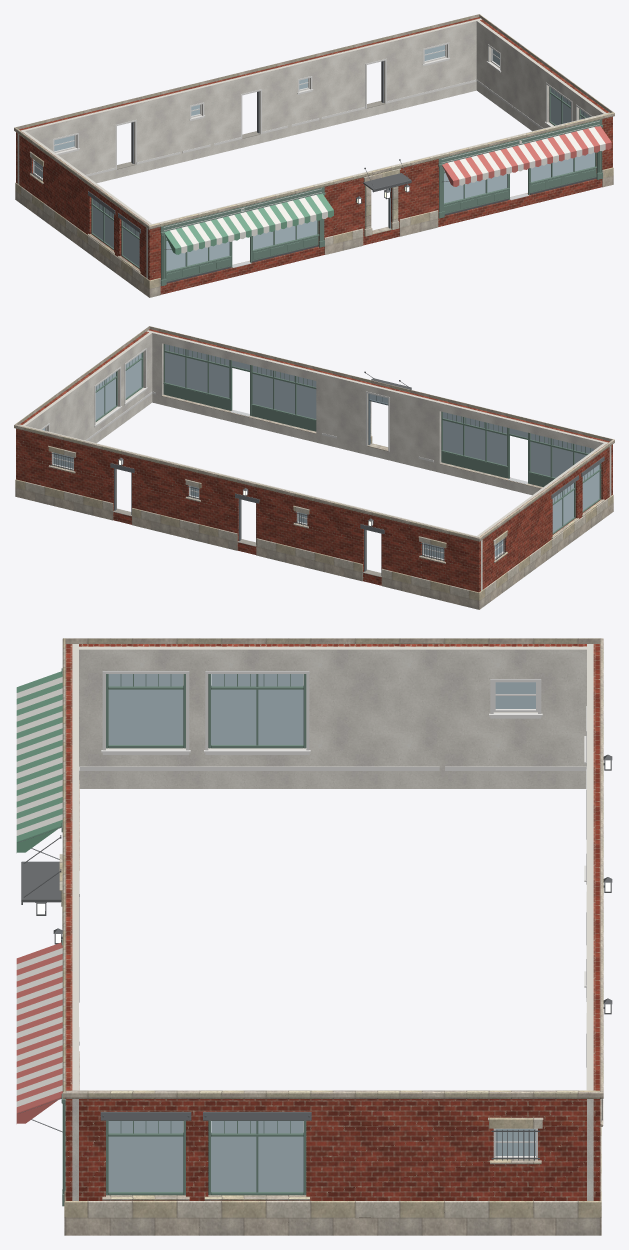
Rendered from shell_g.glb.
3 renders of one model, top to bottom at view 1: azimuth 30°, elevation 25°; view 2: azimuth 150°, elevation 25°; view 3: azimuth 270°, elevation 25°, orthographic. The views are drawn at different scales.
Visible parts, largest first — view 1: shell_g_plaster, shell_g_brick, shell_g_stone_c, shell_g_shop_f, shell_g_glass, shell_g_awn_w, shell_g_trim, shell_g_awn_r, shell_g_awn_g, shell_g_steel_d, shell_g_iron, shell_g_dark (+1 smaller); view 2: shell_g_brick, shell_g_plaster, shell_g_stone_c, shell_g_glass, shell_g_shop_f, shell_g_trim, shell_g_steel_d, shell_g_iron; view 3: shell_g_plaster, shell_g_brick, shell_g_stone_c, shell_g_glass, shell_g_awn_w, shell_g_trim, shell_g_shop_f, shell_g_awn_r, shell_g_awn_g, shell_g_iron, shell_g_steel_d.
Boxes of the visible parts, <box> form: shell_g_plaster: <box>17,18,609,278</box>; shell_g_brick: <box>16,17,612,294</box>; shell_g_stone_c: <box>14,14,614,297</box>; shell_g_shop_f: <box>91,87,603,286</box>; shell_g_glass: <box>34,45,594,270</box>; shell_g_awn_w: <box>170,127,605,253</box>; shell_g_trim: <box>53,42,599,230</box>; shell_g_awn_r: <box>442,126,611,186</box>; shell_g_awn_g: <box>164,194,333,254</box>; shell_g_steel_d: <box>88,61,596,249</box>; shell_g_iron: <box>30,158,411,231</box>; shell_g_dark: <box>166,177,596,283</box>; shell_g_brick: <box>16,329,612,592</box>; shell_g_plaster: <box>19,330,611,590</box>; shell_g_stone_c: <box>14,326,614,609</box>; shell_g_glass: <box>42,344,599,558</box>; shell_g_shop_f: <box>95,344,601,534</box>; shell_g_trim: <box>40,348,433,569</box>; shell_g_steel_d: <box>110,456,604,575</box>; shell_g_iron: <box>49,371,604,561</box>; shell_g_plaster: <box>72,644,593,1200</box>; shell_g_brick: <box>65,644,600,1200</box>; shell_g_stone_c: <box>59,638,603,1235</box>; shell_g_glass: <box>108,674,535,1191</box>; shell_g_awn_w: <box>16,677,62,1106</box>; shell_g_trim: <box>79,671,586,1090</box>; shell_g_shop_f: <box>61,668,306,1206</box>; shell_g_awn_r: <box>16,942,62,1123</box>; shell_g_awn_g: <box>16,671,62,852</box>; shell_g_iron: <box>21,754,612,1160</box>; shell_g_steel_d: <box>18,827,311,1132</box>.
Size of the model in its own units: 24.14 by 3.89 by 13.38.
Materials: 19 (4 with a texture image).
